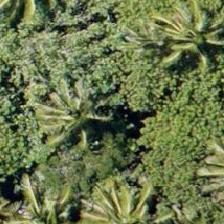coconut_tree: (24, 76, 114, 166), (143, 0, 223, 81), (84, 171, 174, 223)
